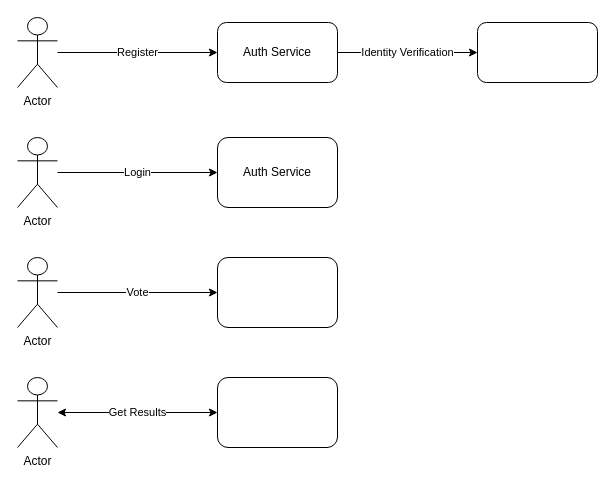
Image size: 615x486. Some labels were removed from this diagram. The shapes that lost their labels are listed below. From the top down, each one's centre as x and y in pixels, then its label:
At [537,52]: "Identity Provider".
At [277,292]: "Vote Service".
At [277,412]: "Results Service".
